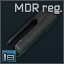Desert Tech 5.56x45 flash hider: (0, 0, 64, 64)
